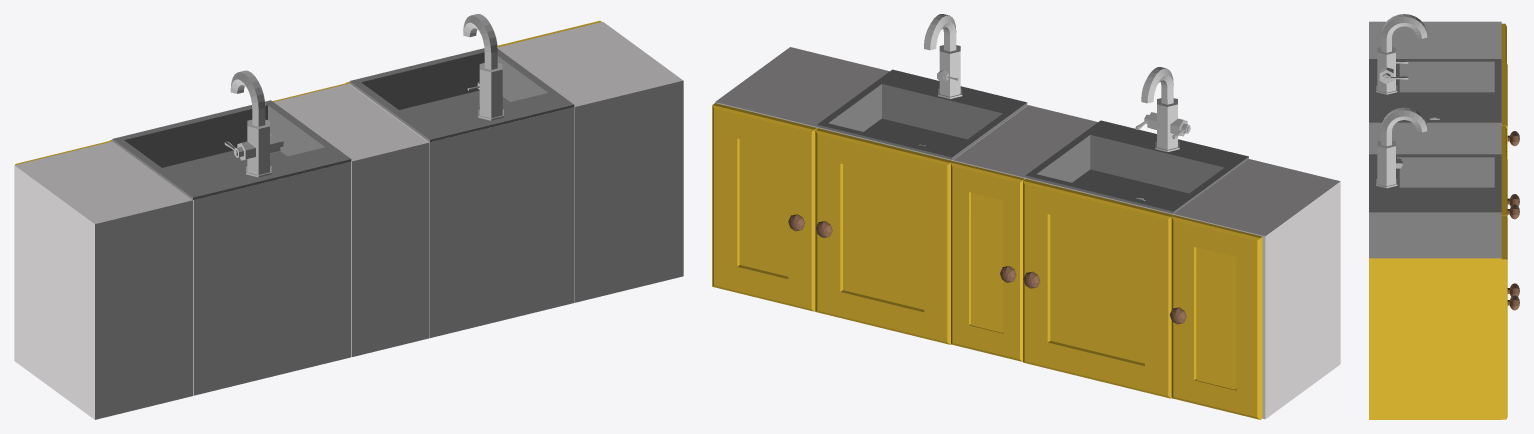
Rendered from Vanity Sink.fbx.
3 renders of one model, left to right at view 1: azimuth 30°, elevation 25°; view 2: azimuth 150°, elevation 25°; view 3: azimuth 270°, elevation 25°, orthographic. The views are drawn at different scales.
Visible parts, largest first — view 1: Node 0; view 2: Node 0, Node 2, Node 4, Node 5, Node 1, Node 3; view 3: Node 0, Node 5, Node 4, Node 2, Node 1, Node 3.
Boxes of the visible parts, bbox=[...] form: Node 0: bbox=[14, 14, 683, 419]; Node 0: bbox=[715, 14, 1340, 419]; Node 2: bbox=[1023, 179, 1173, 398]; Node 4: bbox=[815, 128, 952, 344]; Node 5: bbox=[712, 103, 817, 311]; Node 1: bbox=[1170, 215, 1262, 419]; Node 3: bbox=[951, 161, 1024, 361]; Node 0: bbox=[1369, 14, 1501, 419]; Node 5: bbox=[1501, 215, 1519, 419]; Node 4: bbox=[1501, 157, 1519, 296]; Node 2: bbox=[1502, 62, 1519, 206]; Node 1: bbox=[1501, 23, 1519, 146]; Node 3: bbox=[1501, 126, 1519, 219].
Size of the model in its own units: 3.32 by 1.56 by 0.8939.
